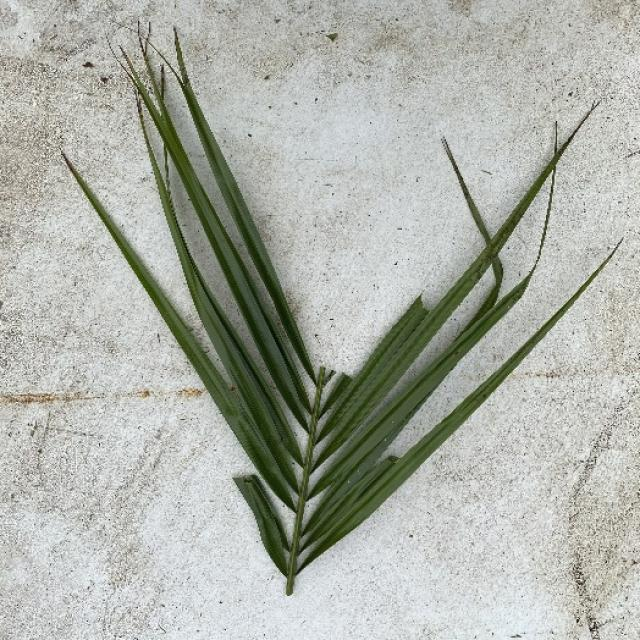wet: (94, 97, 606, 610)
